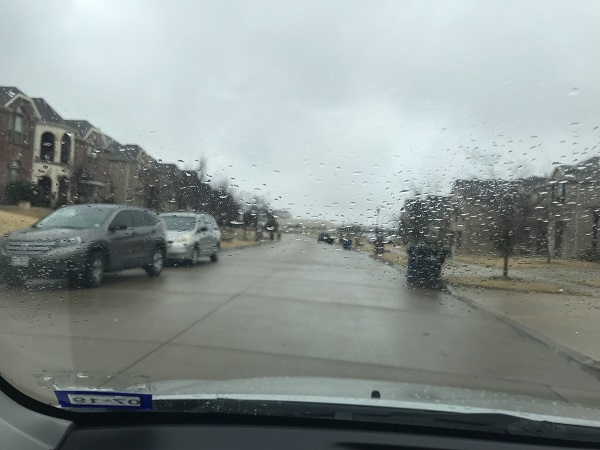car: (2, 197, 164, 284), (157, 211, 223, 265)
